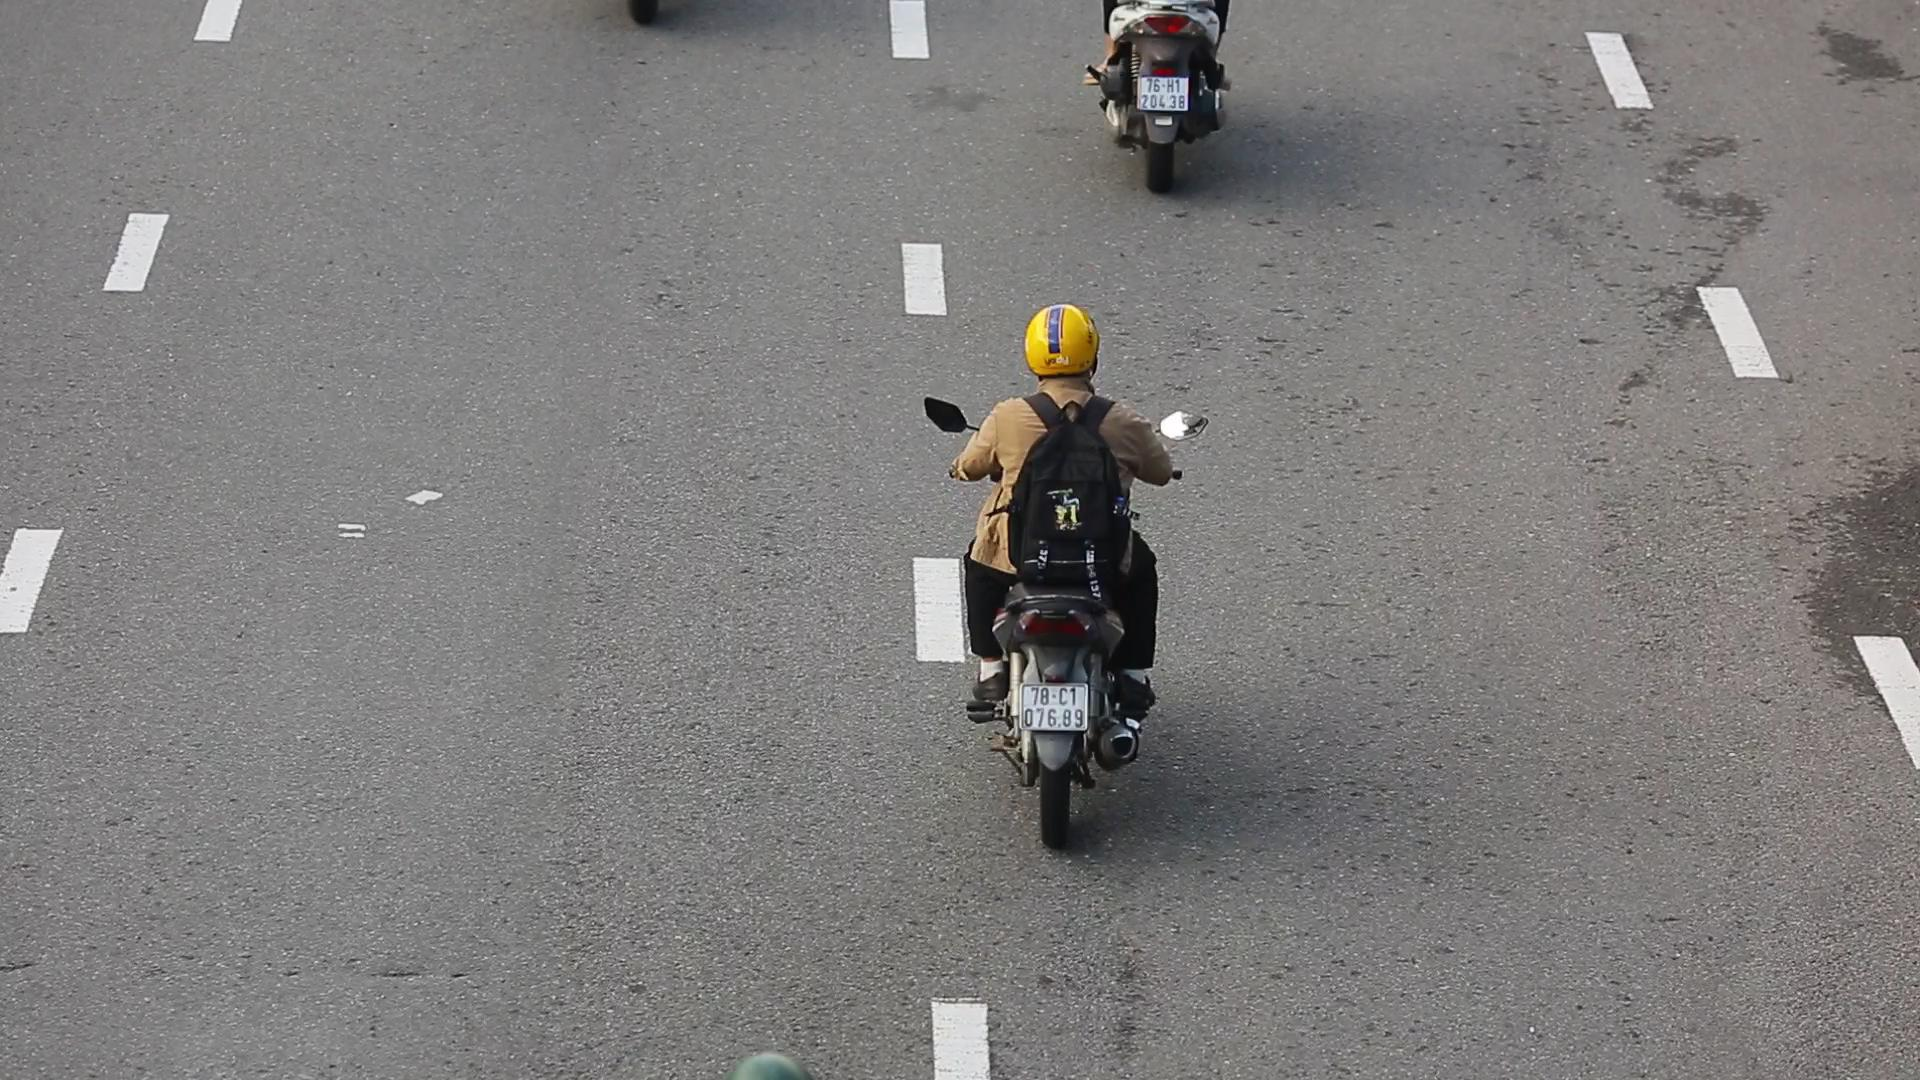motobike: (927, 301, 1212, 853)
